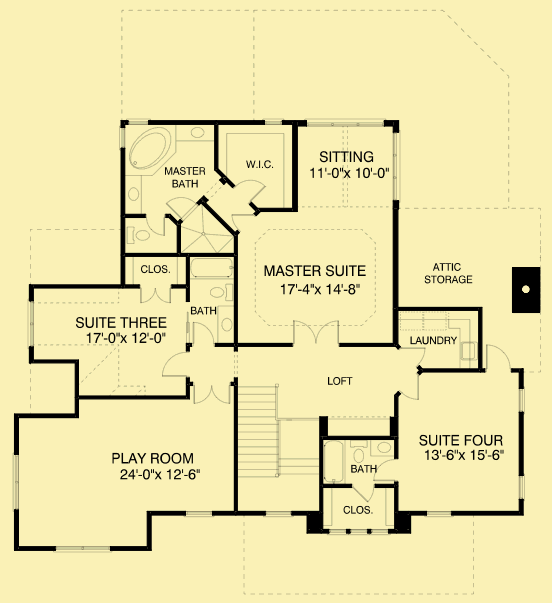bathroom has a tub, small and large sink and closet: (320, 431, 401, 533)
master bathroom is with walk in closet, tub and shower space, small and large si: (117, 117, 301, 258)
these are stairs to the other floors: (233, 381, 321, 516)
this bedroom has a closet and bathroom with tub, small and large sink: (27, 256, 236, 403)
this is a laundry room: (396, 308, 488, 374)
